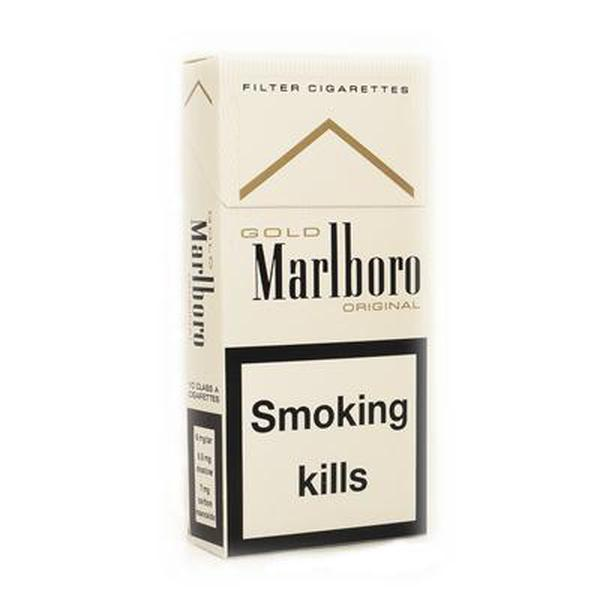marlboro_gold: (215, 57, 420, 539)
